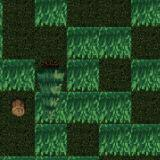Obstacle: (2, 92, 34, 124), (36, 59, 66, 92)
Slow: (35, 92, 130, 123), (99, 124, 160, 156), (67, 28, 131, 58), (0, 58, 35, 90), (67, 60, 99, 92), (131, 59, 160, 92), (35, 124, 66, 154), (34, 0, 68, 26), (131, 0, 160, 27)
